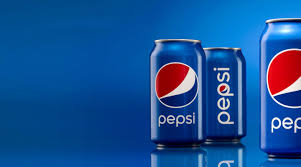Pepsi: (148, 37, 205, 147), (259, 18, 300, 152), (205, 38, 248, 147)
